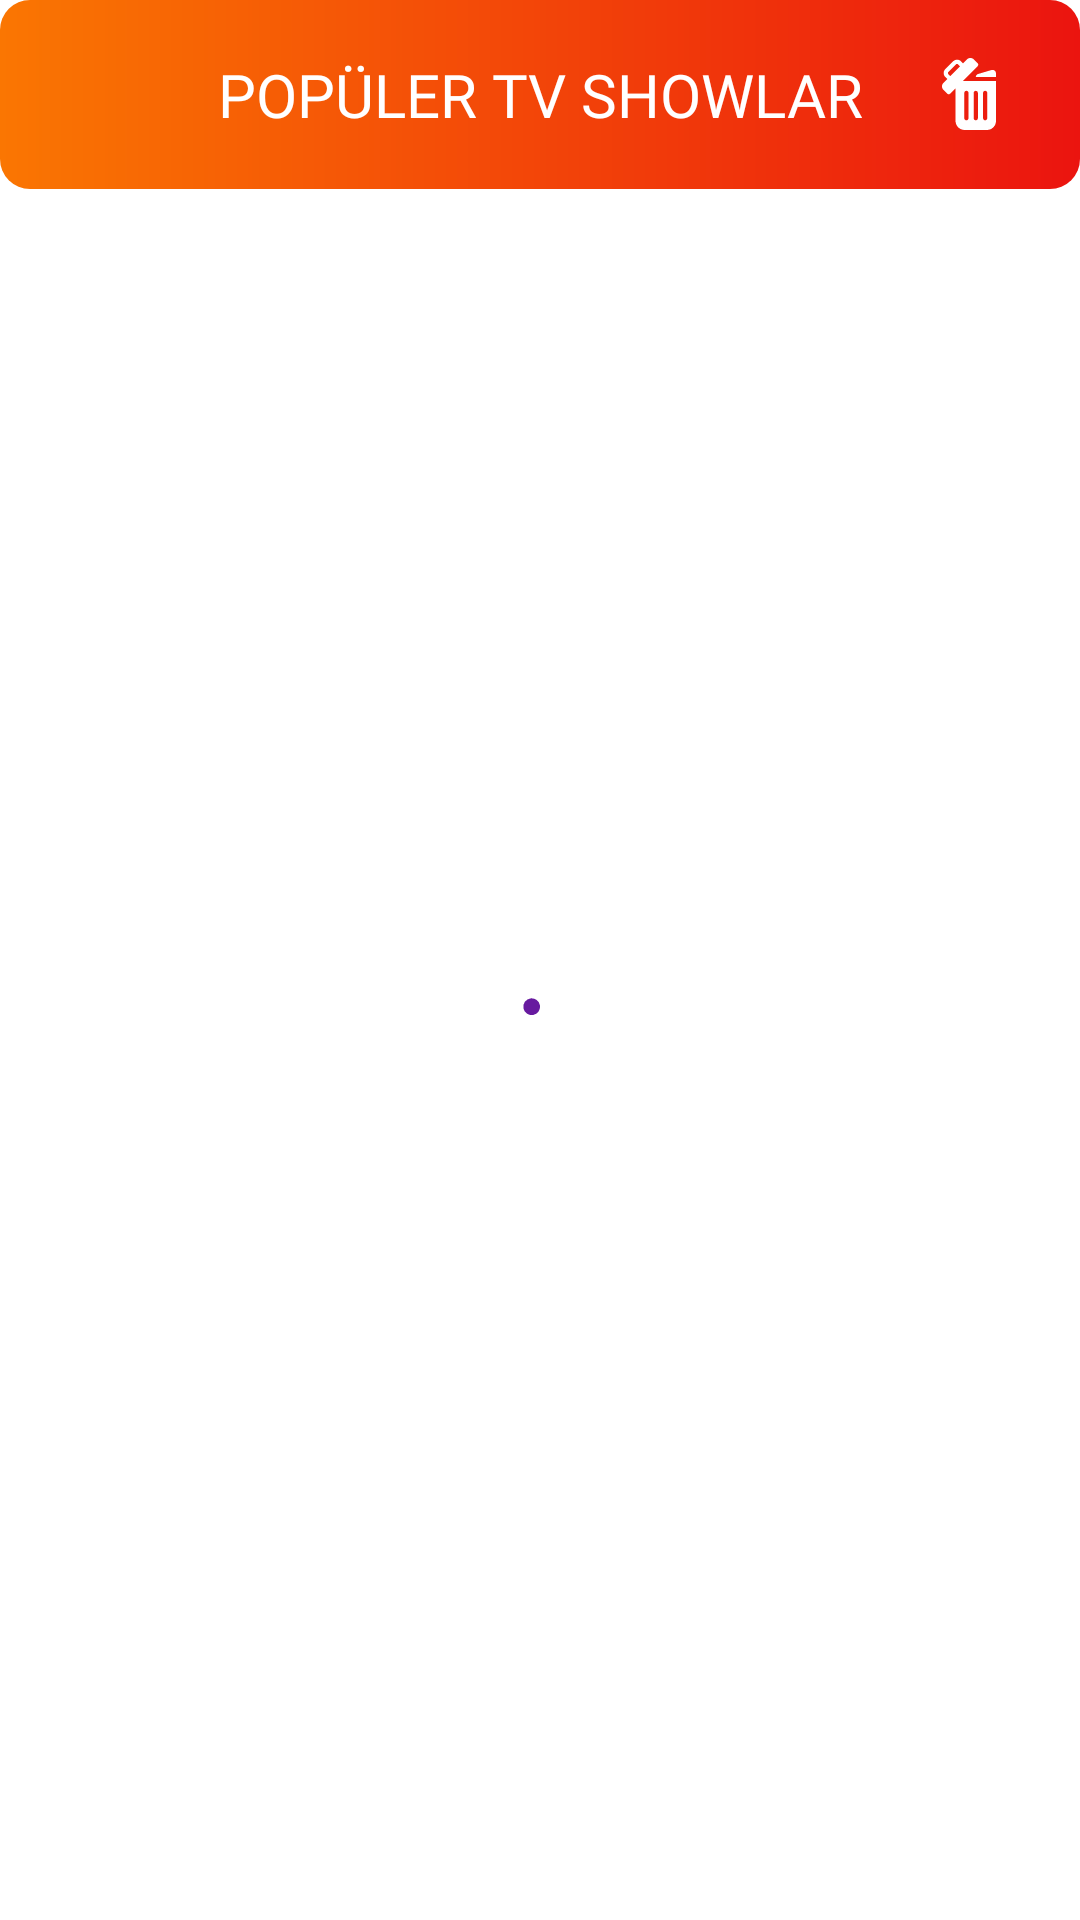

Where icons sit on this 1080 × 1920 app screen, as (x1, y1, x2, y2):
all delete: (942, 58, 996, 130)
